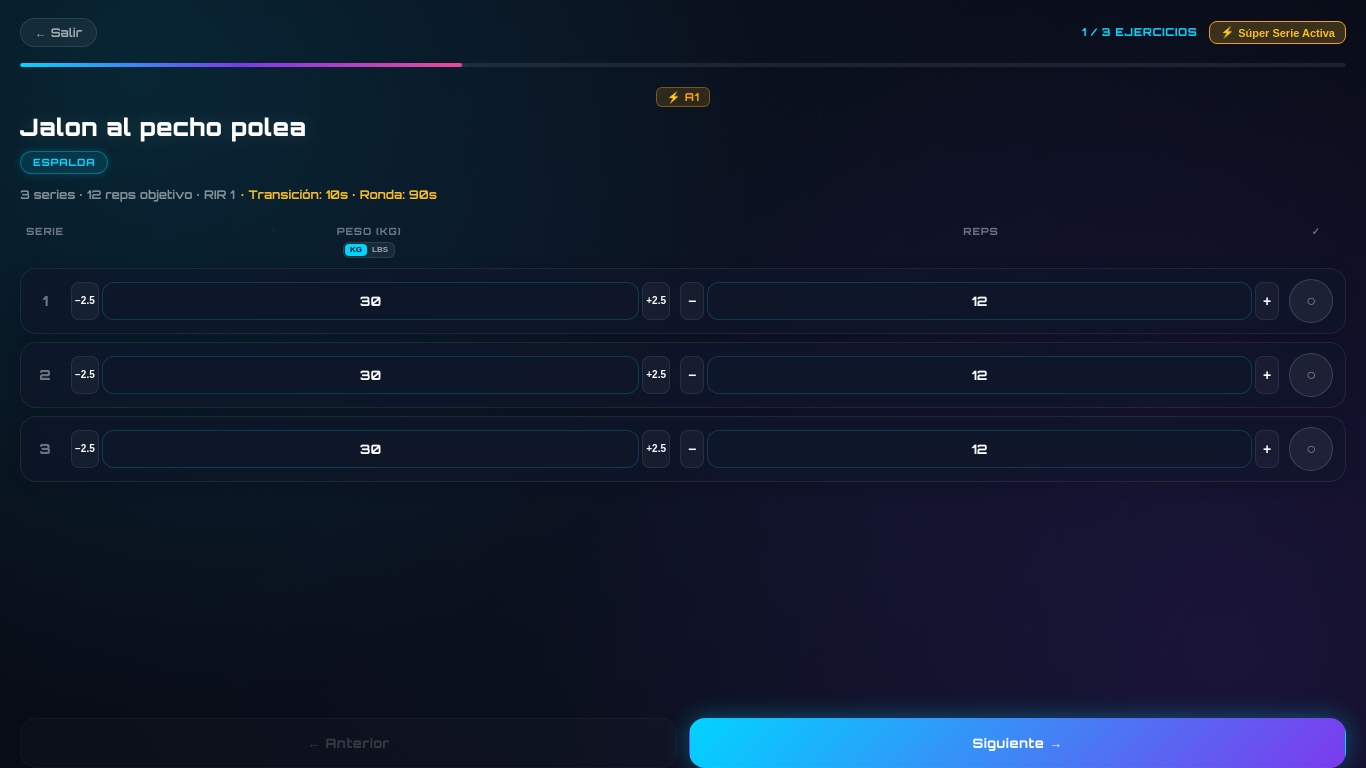
it: Preconfigured Superset Flow in ActiveSession › al completar la serie 1 de A2, transiciona de vuelta a A1 con el descanso de ronda de 90s
The width and height of the screenshot is (1366, 768).
Check: the heading "Jalon al pecho polea" is shown, box [20,112,307,142]
Click the button named "Marcar serie 1 como completada" at (1311, 301), box [1289,279,1333,323]
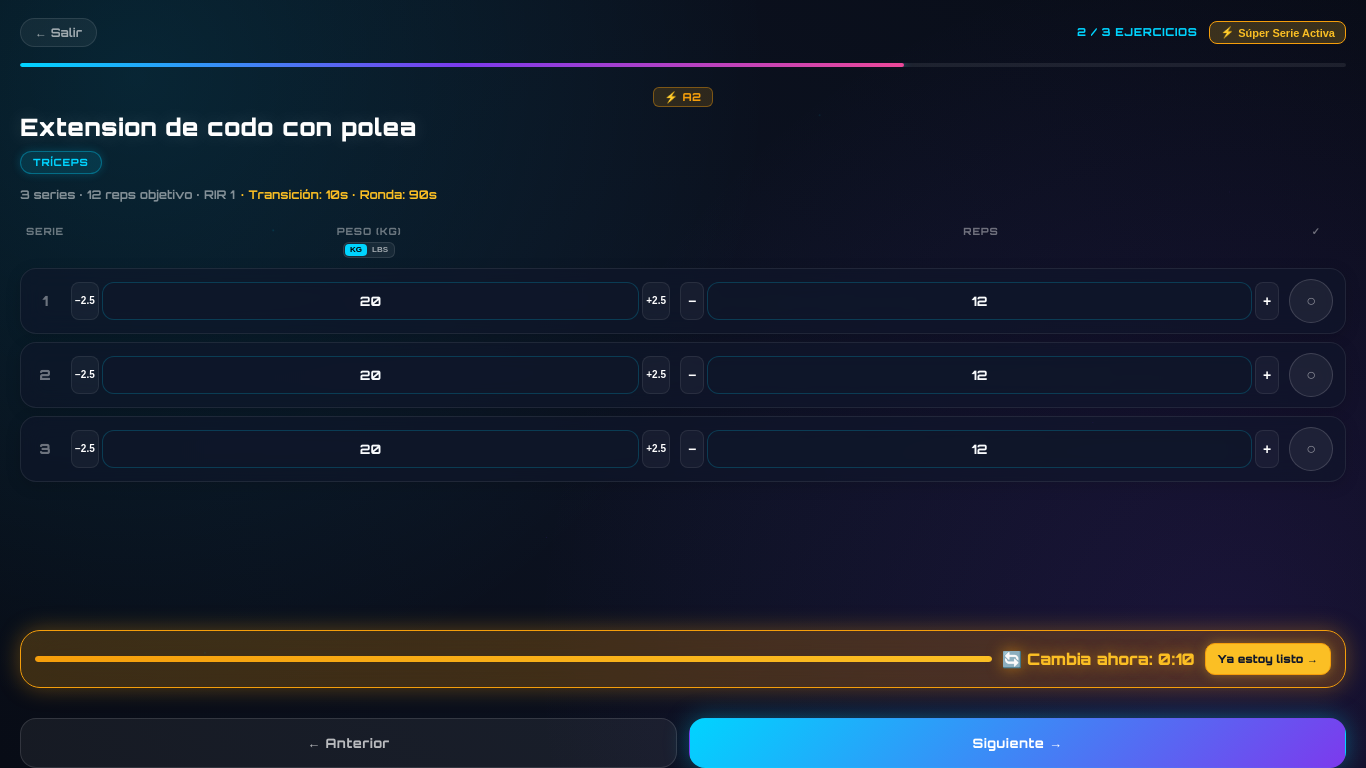
Check: the heading "Extension de codo con polea" is shown, box [20,112,417,142]
Click the button named "Marcar serie 1 como completada" at (1311, 301), box [1289,279,1333,323]
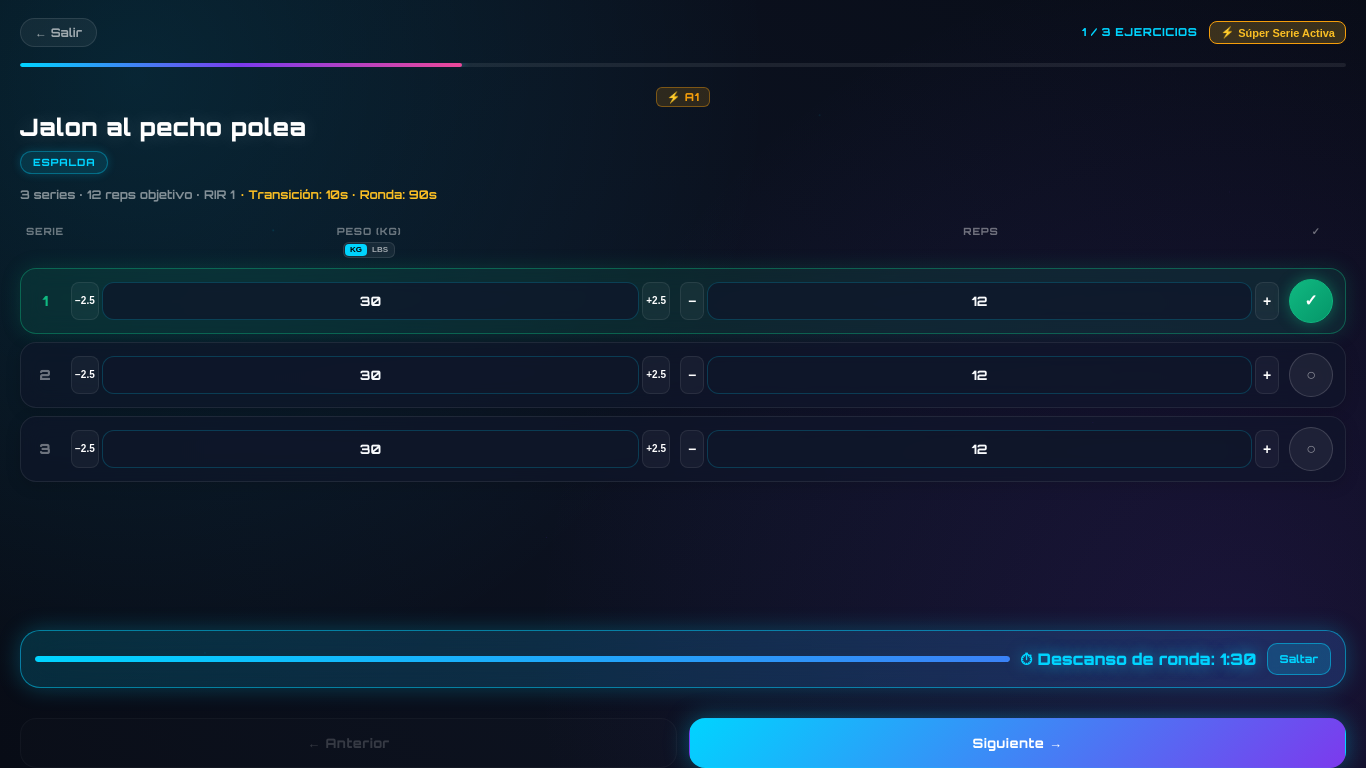
Check: the text "⏱ Descanso de ronda: 1:30" is shown, box [1020,647,1257,671]
Check: the heading "Jalon al pecho polea" is shown, box [20,112,307,142]
Check: the button "⚡ A1" is shown, box [656,87,710,107]
